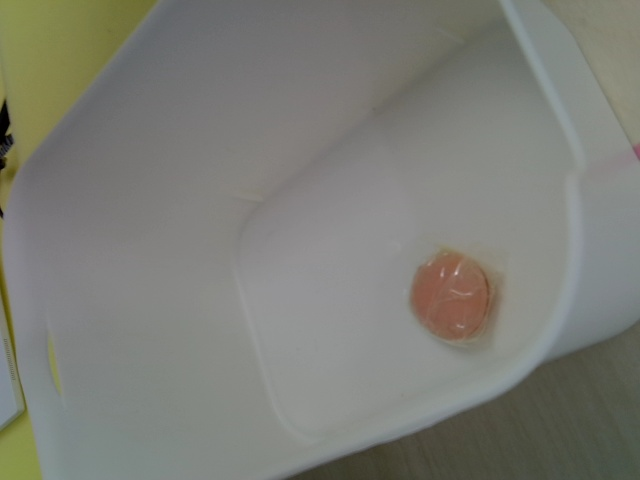씨앗: (405, 247, 499, 344)
